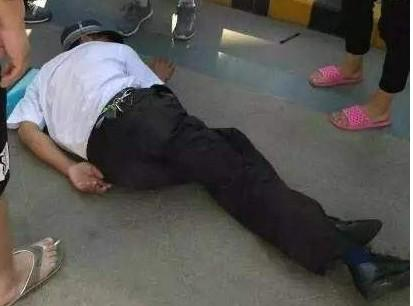Fall-Detected: (16, 7, 389, 300)
